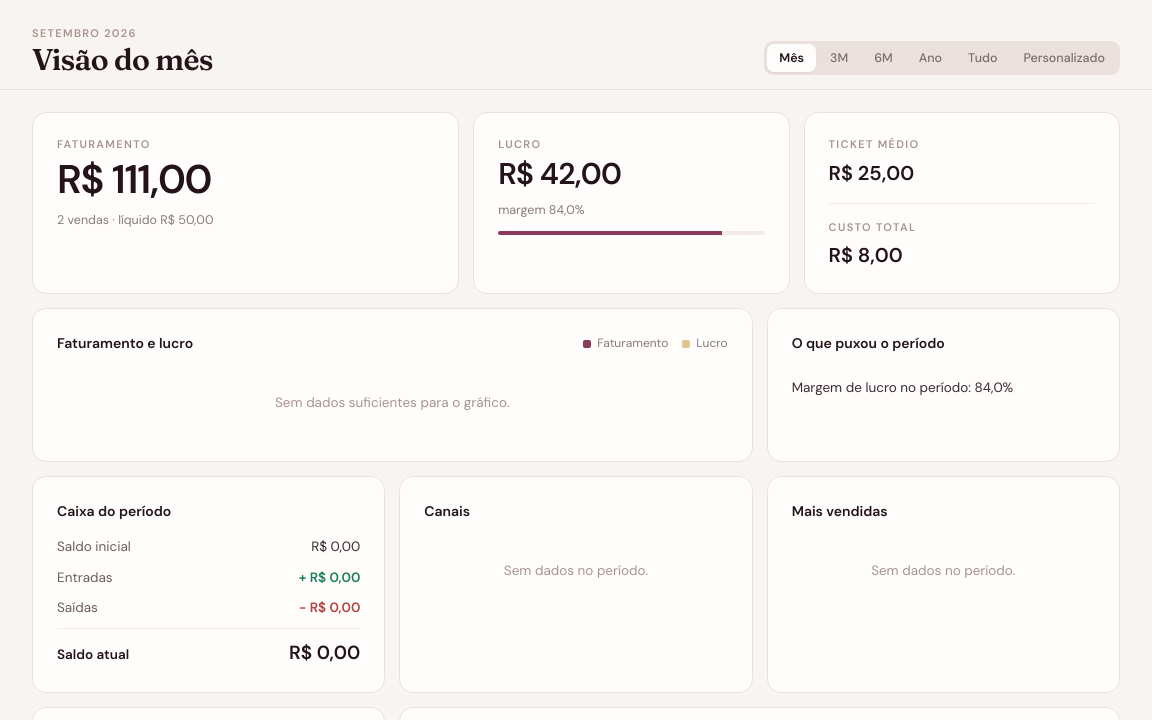
Test: Painel: período personalizado › should_reload_the_custom_period_when_coming_back_to_it
Check: the text "R$ 111,00" is shown, box x1=57 y1=153 x2=211 y2=205
Step 1. Click the button "Personalizado" → [1064, 58], box x1=1011 y1=44 x2=1117 y2=72
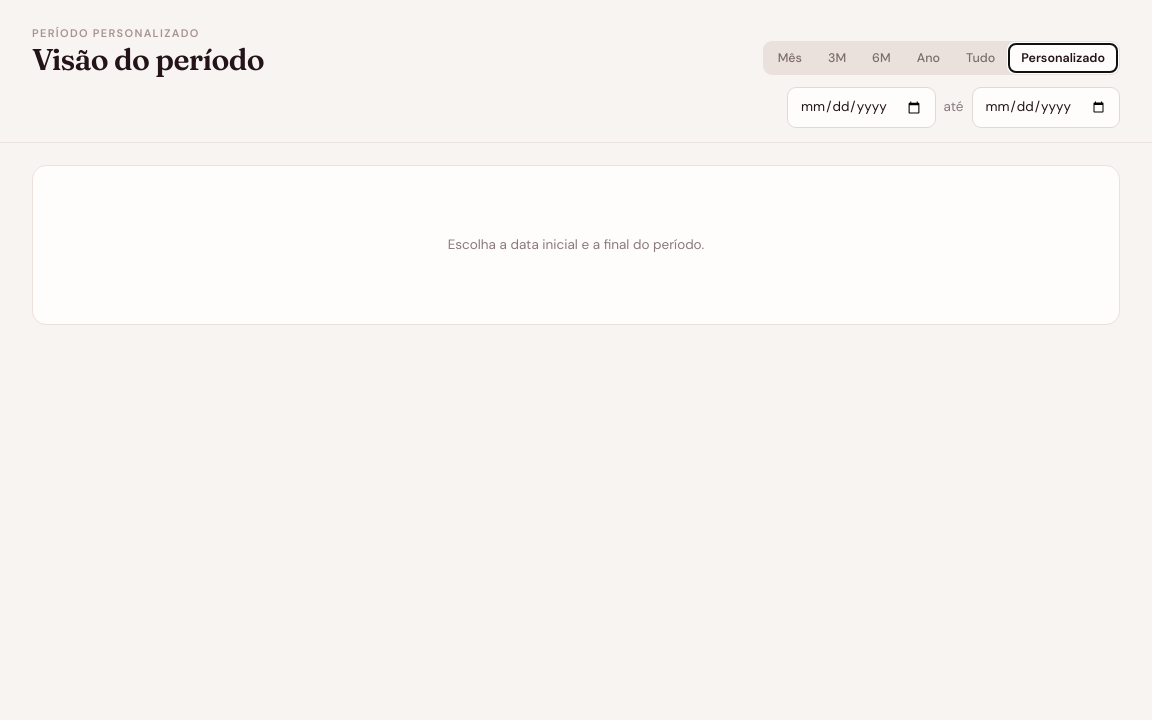
Step 2. Type "2026-08-01" into the 1st date field → [861, 108], box x1=787 y1=87 x2=936 y2=128
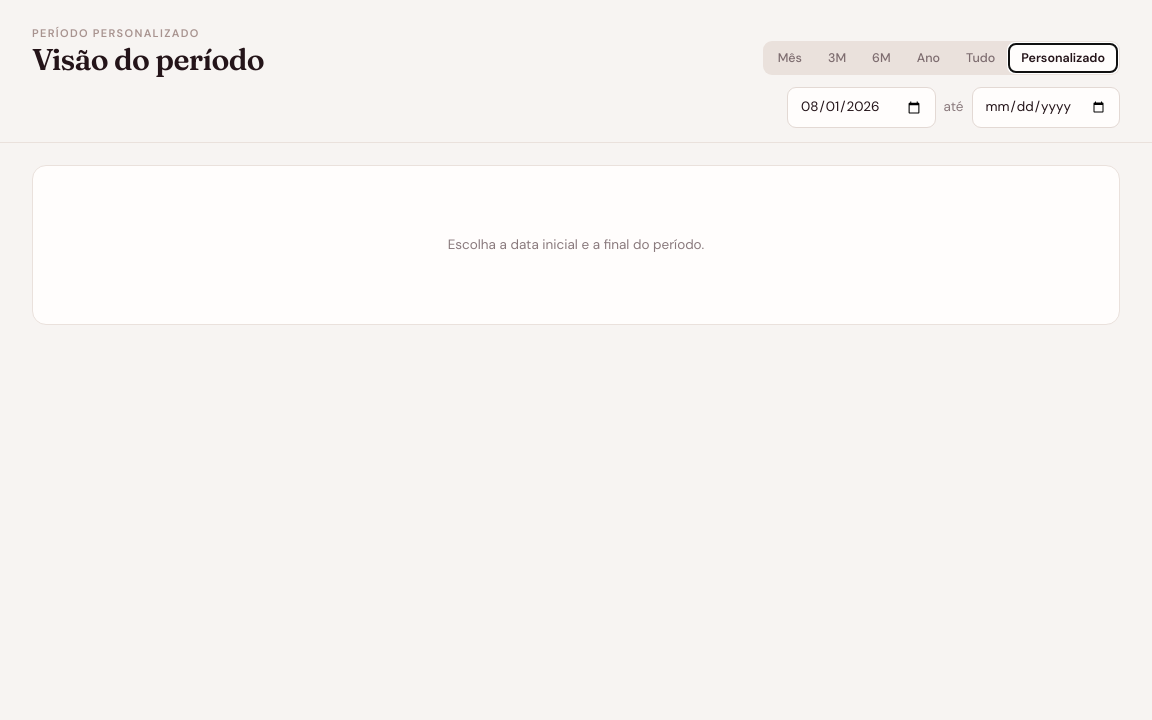
Step 3. Type "2026-08-31" into the 2nd date field → [1046, 108], box x1=972 y1=87 x2=1120 y2=128
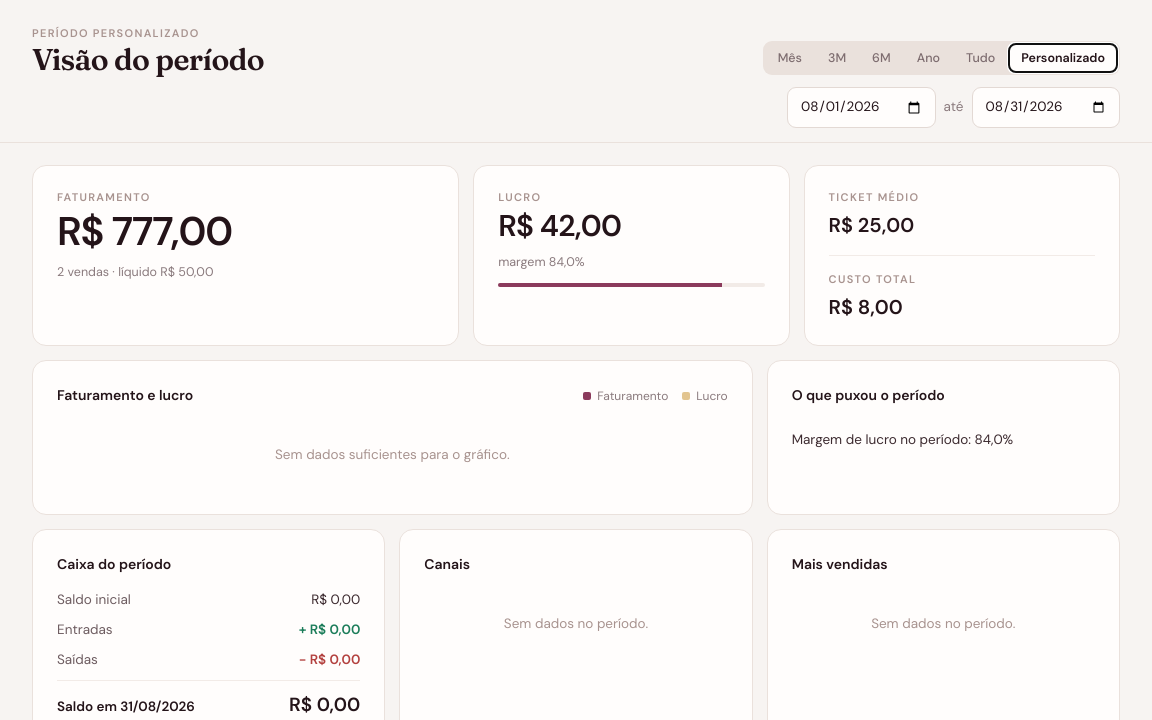
Check: the text "R$ 777,00" is shown, box x1=57 y1=205 x2=232 y2=257
Step 4. Click the button "Mês" → [790, 58], box x1=766 y1=44 x2=814 y2=72
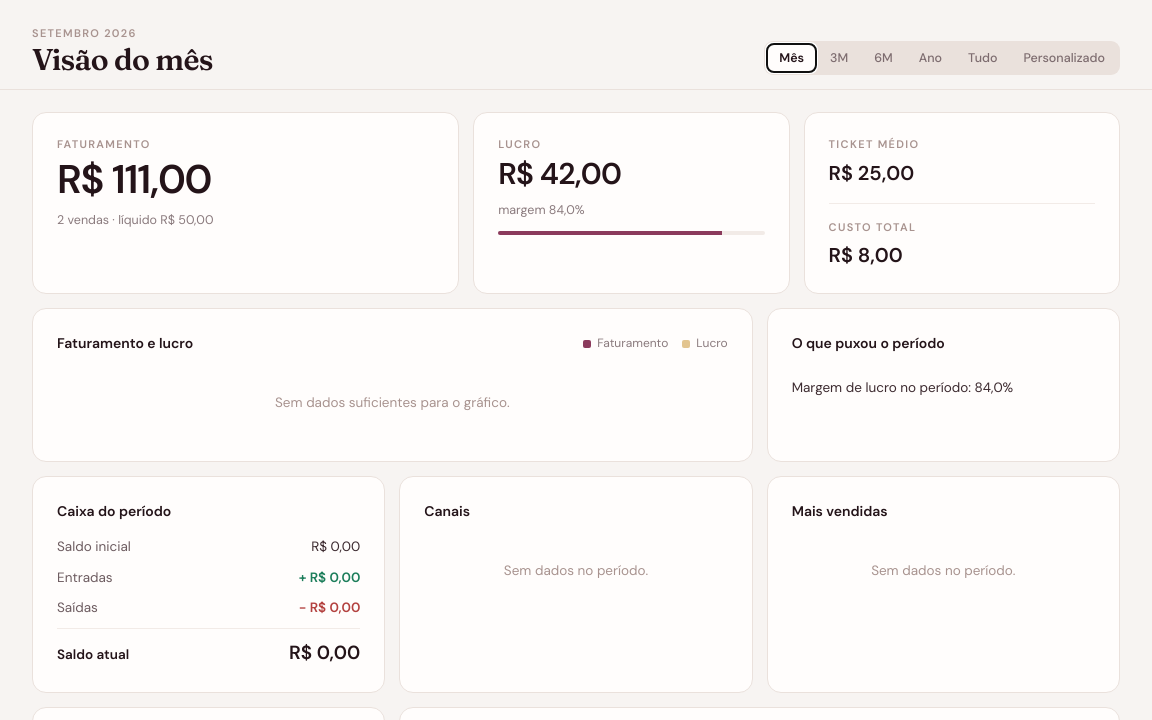
Check: the text "R$ 111,00" is shown, box x1=57 y1=153 x2=211 y2=205
Step 5. Click the button "Personalizado" → [1064, 58], box x1=1011 y1=44 x2=1117 y2=72
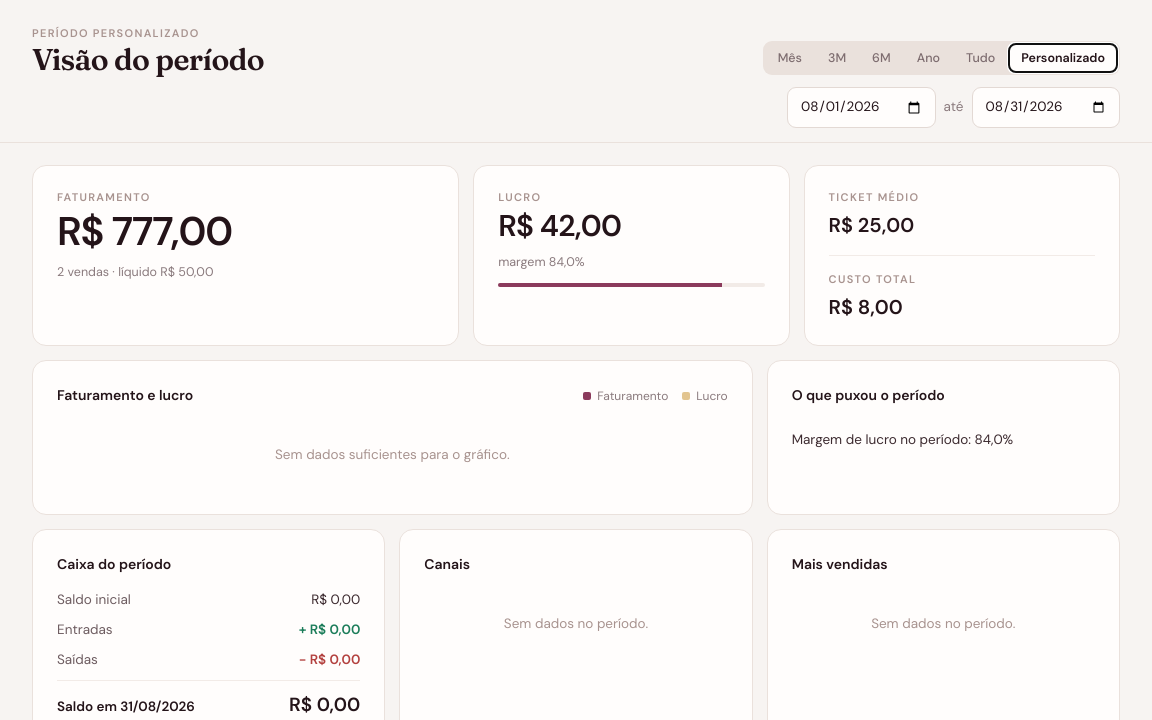
Check: the text "R$ 777,00" is shown, box x1=57 y1=205 x2=232 y2=257
